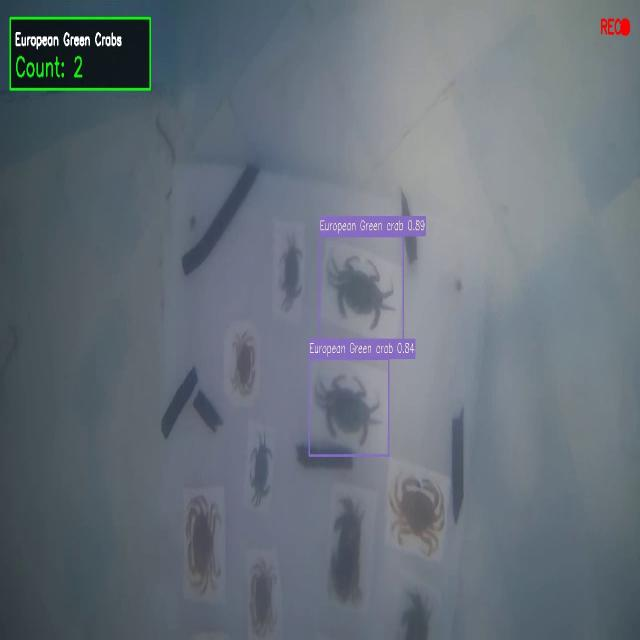European_Green_Crab: (324, 245, 403, 343), (312, 366, 385, 448), (275, 224, 303, 317), (247, 429, 271, 508)
